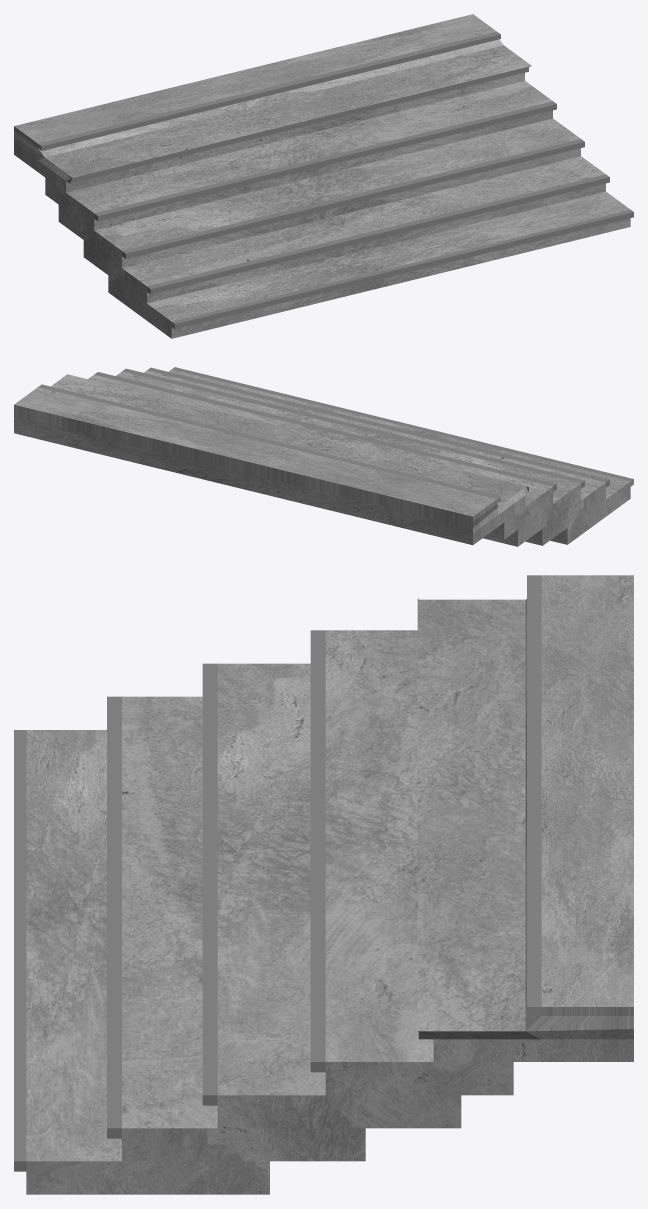
The model's file is Escaleras.fbx.
3 views of the same model, one above another, from view 1: azimuth 30°, elevation 25°; view 2: azimuth 150°, elevation 25°; view 3: azimuth 270°, elevation 25° (orthographic). The views are drawn at different scales.
Visible parts, largest first — view 1: Cube; view 2: Cube; view 3: Cube.
Boxes of the visible parts, box(x1,y1,x2,y2) form: Cube: box(14, 14, 633, 338); Cube: box(14, 367, 633, 546); Cube: box(14, 575, 633, 1194).
Bounding box in the file's own units: 805 × 162 × 486.
3 materials, 3 textured.
